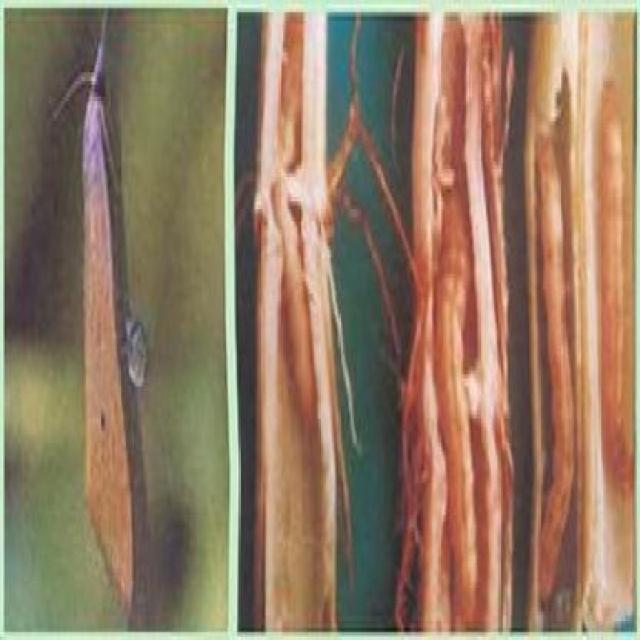stem-borer: (76, 10, 132, 627)
